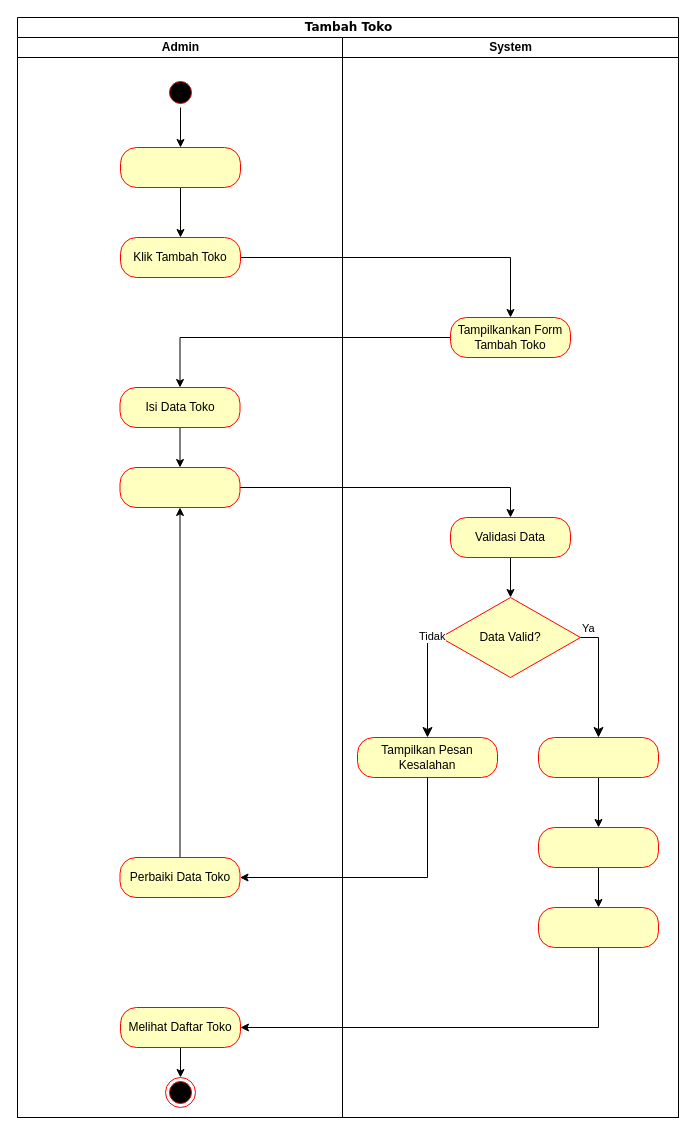
This 696x1135 diagram has some shape labels left out. The centre of each missing label's shape, as x and y in pixels:
"Klik Simpan" goes at point 179,487.
"Pilih Menu Toko" goes at point 180,167.
"Simpan Data Toko" goes at point 598,757.
"Tampilkan Daftar Toko" goes at point 598,927.
"Tampilkan Pesan Berhasil" goes at point 598,847.
